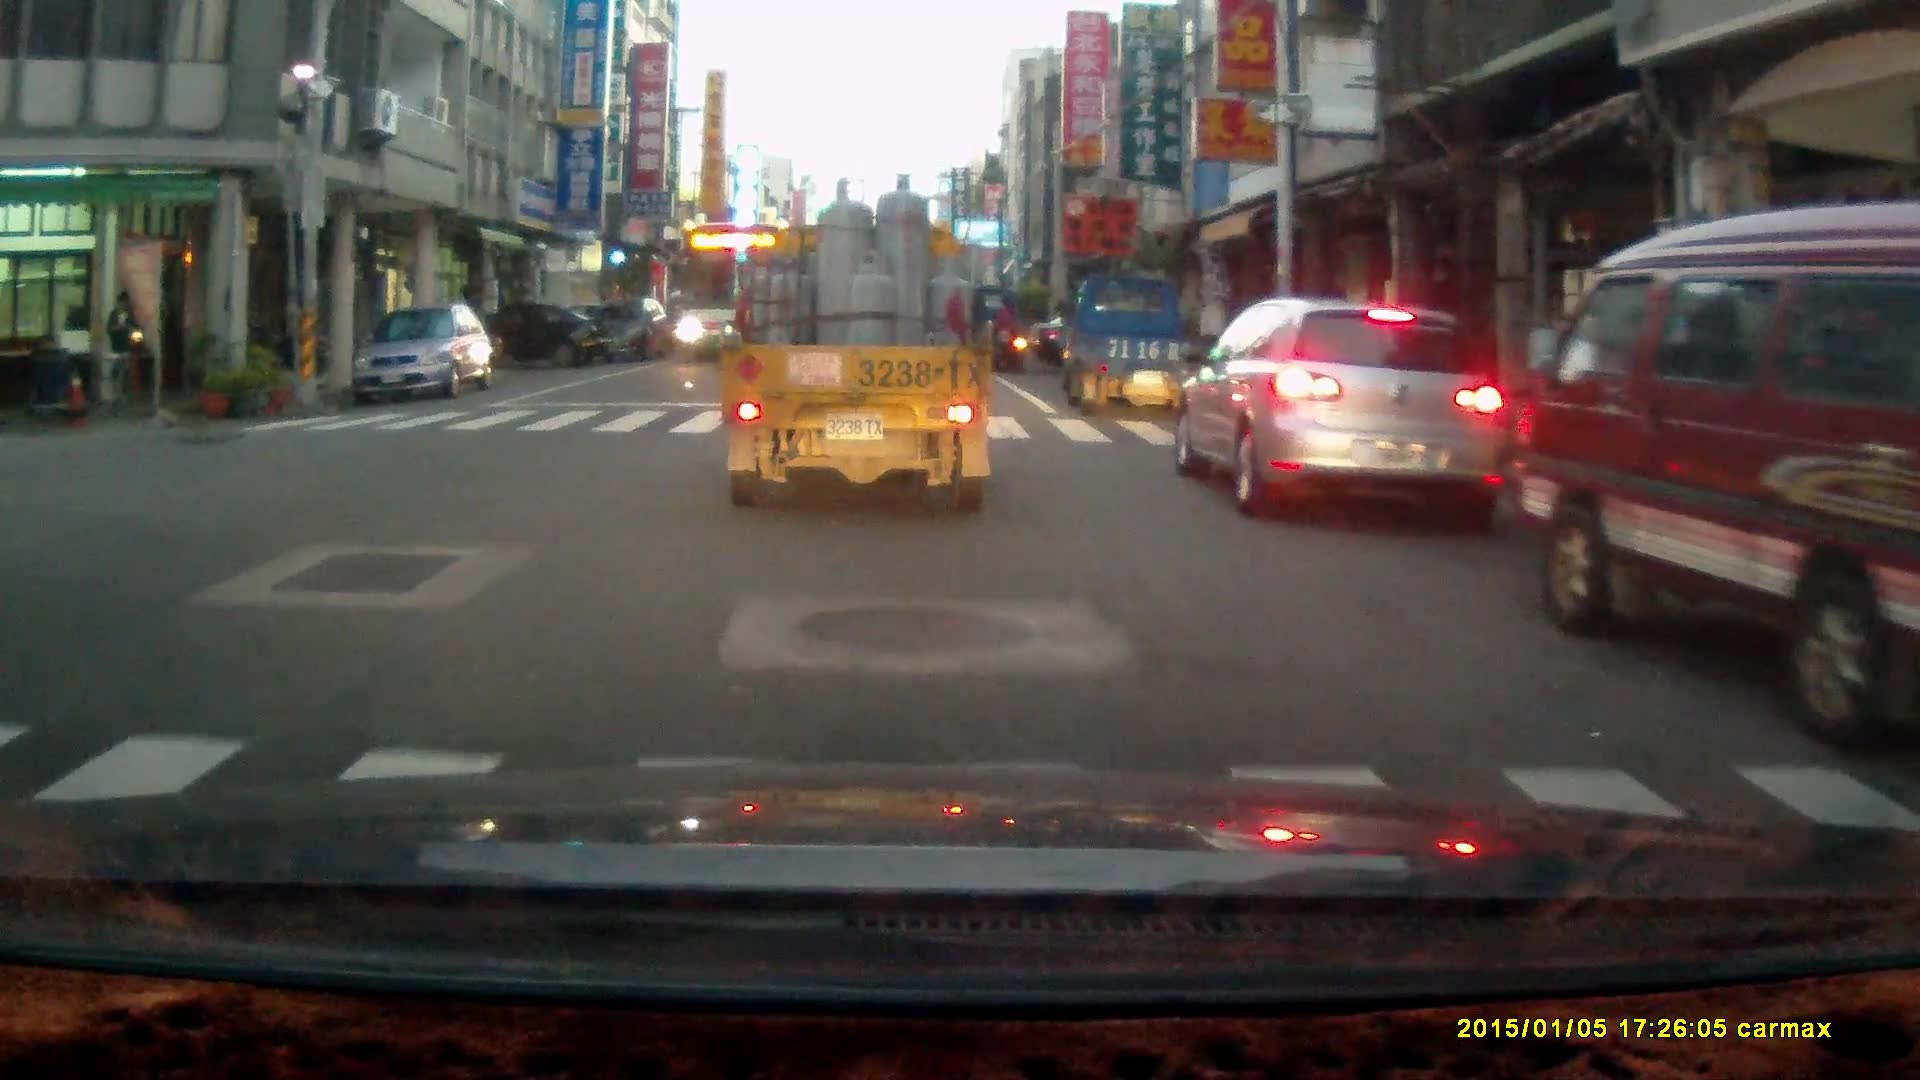pedestrian: (103, 285, 139, 411), (992, 292, 1017, 367)
vehicle: (1507, 202, 1920, 725), (722, 171, 993, 515), (1176, 292, 1507, 531), (1063, 272, 1207, 414), (672, 216, 802, 367), (348, 301, 497, 403), (438, 297, 607, 366), (589, 295, 676, 365)
